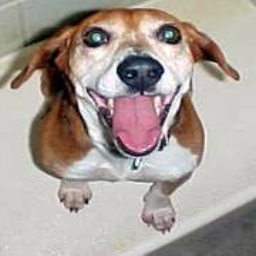dog: (12, 4, 230, 237)
